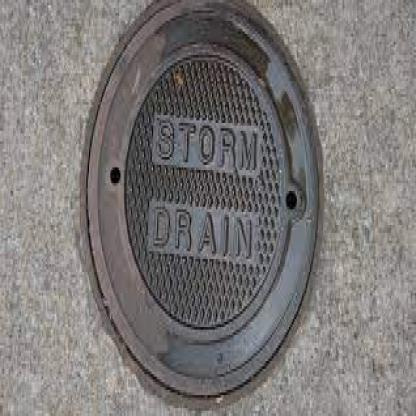open manhole-not overflowing-: (85, 0, 322, 401)
